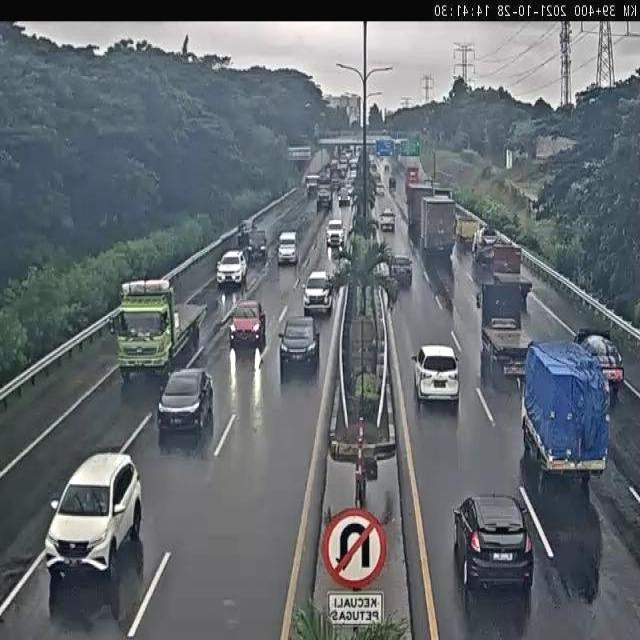Car: (43, 449, 145, 589), (454, 494, 535, 588), (156, 368, 215, 434), (410, 343, 461, 407), (278, 317, 321, 377), (230, 299, 267, 351), (301, 269, 337, 315), (216, 248, 249, 287), (391, 253, 415, 290), (326, 216, 346, 248), (378, 208, 398, 233)
Truck: (512, 338, 610, 487), (112, 276, 206, 384), (474, 276, 534, 377), (574, 321, 626, 390), (417, 193, 456, 258), (488, 241, 533, 293), (471, 225, 501, 266), (454, 217, 483, 247)
Van: (276, 230, 300, 270)
